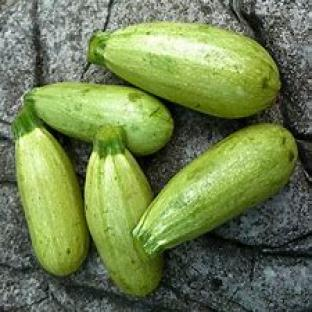Zucchini: (134, 124, 296, 255), (89, 22, 280, 118), (85, 127, 162, 295), (13, 107, 88, 275), (24, 83, 173, 155)
